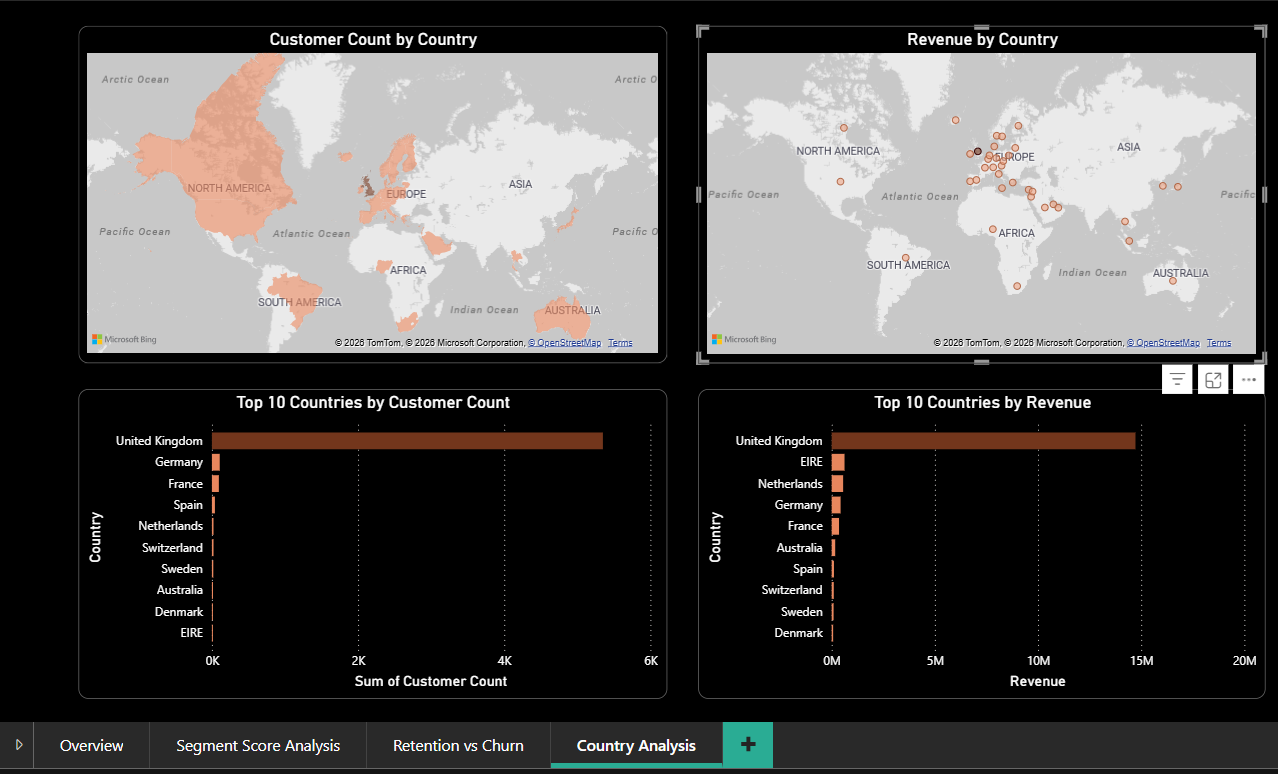

The page's visual inventory and layout, read from the dashboard file:
{"tool":"powerbi","page":{"name":"Country Analysis","canvas":[1280,720],"ordinal":3},"visuals":[{"type":"filledMap","title":"Customer Count by Country","fields":{"Category":["Country wise.Country"]},"box":[79.3,24.7,587.9,336.9],"z":0},{"type":"barChart","title":"Top 10 Countries by Revenue","fields":{"Category":["Country wise.Country"],"Y":["Sum(Country wise.Revenue)"]},"box":[698.5,387.6,567.1,309.6],"z":1000},{"type":"barChart","title":"Top 10 Countries by Customer Count","fields":{"Category":["Country wise.Country"],"Y":["Sum(Country wise.Customer Count)"]},"box":[79.3,387.6,587.9,309.6],"z":2000},{"type":"map","fields":{"Category":["Country wise.Country"]},"box":[698,25,567,337],"z":3000}]}

Visuals, with their boxes on the page's 1280x720 design canvas (x1, y1, x2, y2). These are canvas units, not pixel positions in the 1278x774 screenshot, which may show the page scaled, cropped or inside an application window:
"Customer Count by Country" filledMap: crop(79, 25, 667, 362)
"Top 10 Countries by Revenue" barChart: crop(698, 388, 1266, 697)
"Top 10 Countries by Customer Count" barChart: crop(79, 388, 667, 697)
map - Country wise.Country: crop(698, 25, 1265, 362)
